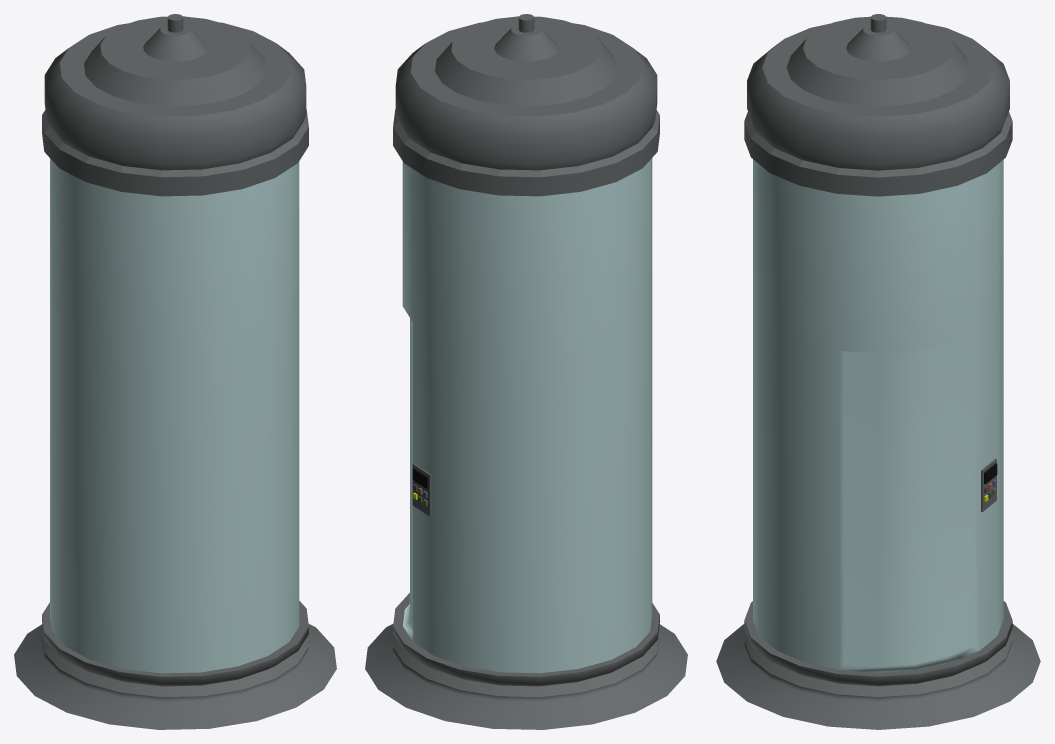
File: creation_pod_untextured.fbx
The picture shows the model from 3 angles, left to right: view 1: azimuth 30°, elevation 25°; view 2: azimuth 150°, elevation 25°; view 3: azimuth 270°, elevation 25°; orthographic projection.
Visible parts, largest first — view 1: tube, pod_top, pod_base; view 2: tube, pod_top, pod_base, computer_base; view 3: tube, pod_top, pod_base.
Part boxes in pixels (box(x1,y1,x2,y2)): tube: box(50, 158, 299, 673); pod_top: box(42, 14, 308, 196); pod_base: box(14, 601, 336, 729); tube: box(402, 158, 652, 673); pod_top: box(393, 14, 659, 196); pod_base: box(365, 593, 687, 729); computer_base: box(412, 463, 431, 516); tube: box(753, 159, 1003, 672); pod_top: box(744, 14, 1012, 196); pod_base: box(716, 601, 1040, 729).
Size of the model in its own units: 1217 by 2665 by 1217.
